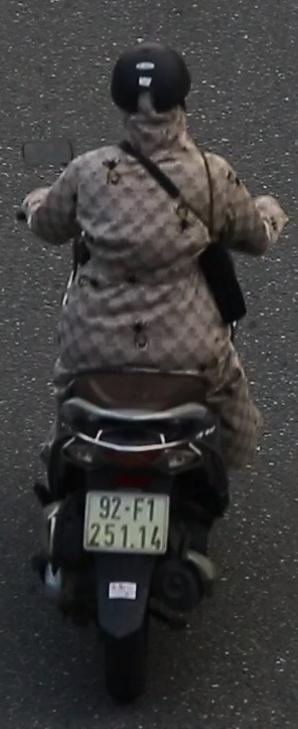LP: (80, 486, 174, 564)
helmet: (106, 37, 198, 161)
